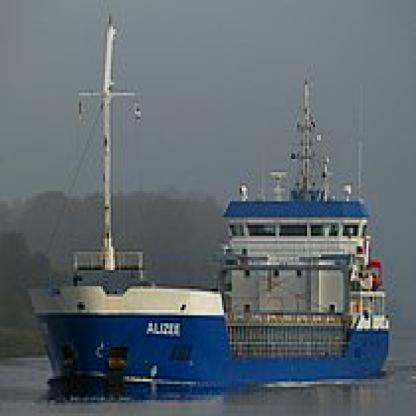Tanker: (46, 58, 400, 392)
